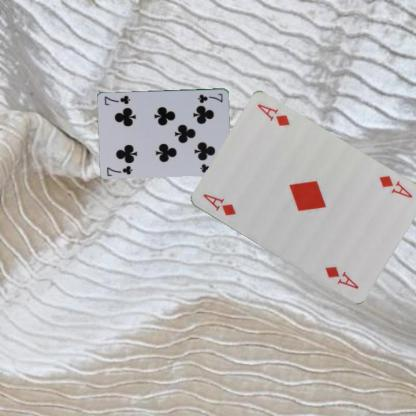7c: (105, 163, 134, 177), (195, 91, 224, 104)
Ad: (376, 173, 414, 199), (200, 191, 237, 217)
